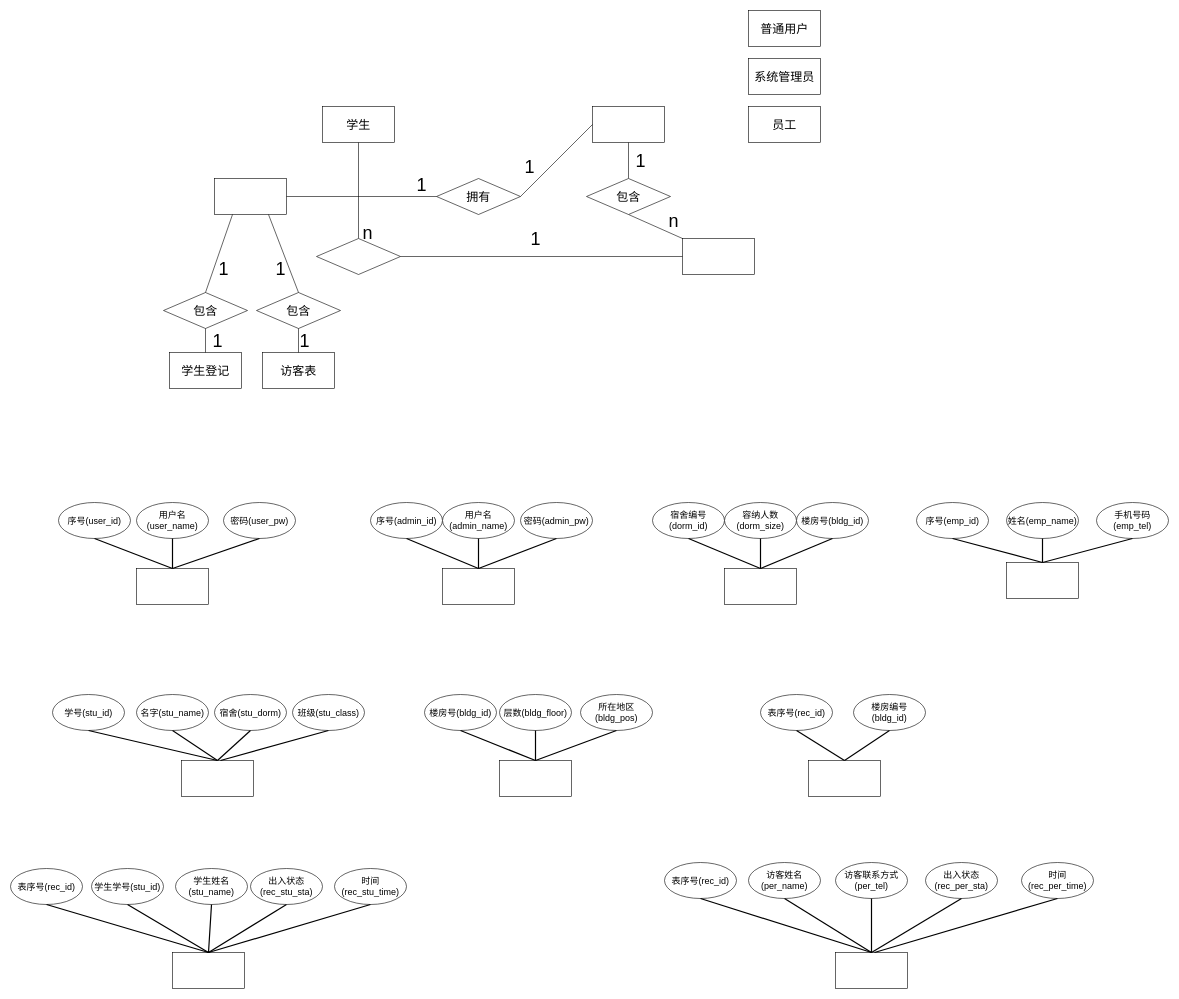
The diagram is 1179 pixels wide and 999 high, and some of its shapes have lost their labels. The shapes that lost their labels are listed below. From the top down, each one's centre as x and y in pixels, then its label:
At point 628,124: "楼房".
At point 250,196: "登记表".
At point 358,256: "居住".
At point 718,256: "宿舍".
At point 172,586: "普通用户(user)".
At point 478,586: "系统管理员(admin)".
At point 760,586: "宿舍（dorm)".
At point 1042,580: "员工(emp)".
At point 217,778: "学生(stu)".
At point 535,778: "楼房(bldg)".
At point 844,778: "登记表(rec)".
At point 208,970: "学生登记(rec_stu)".
At point 871,970: "访客登记(rec_per)".
